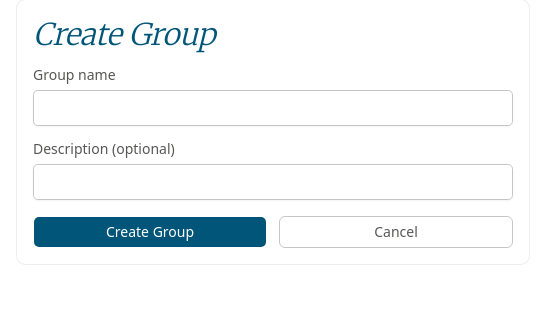
CreateGroupPage › shows a submission error when group creation fails
The width and height of the screenshot is (547, 336).
Step 1. Type "Choir" into the field labelled "Group name" → x=273, y=108, box [33,90,513,126]
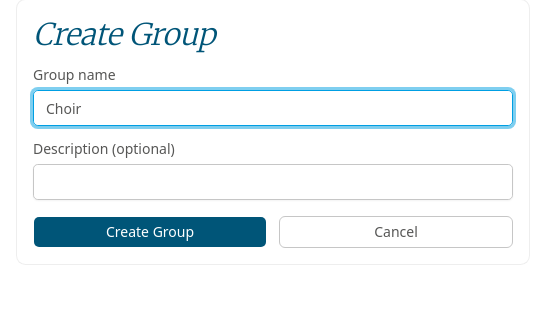
Step 2. Click the button "Create Group" → x=150, y=232, box [33,216,267,248]
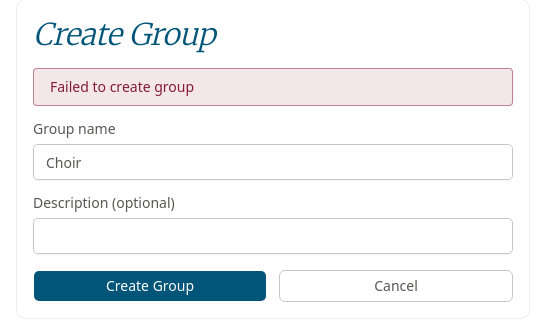
Result: the text "Failed to create group" is shown at [33,68,513,106]
